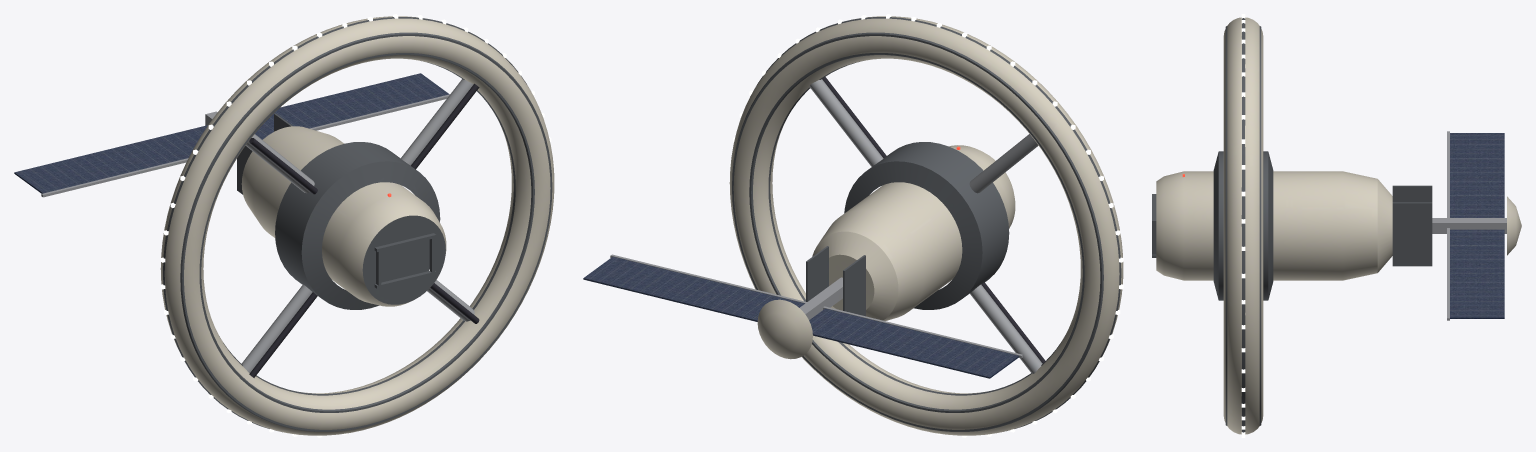
The model's file is game-hearth.glb.
The picture shows the model from 3 angles, left to right: view 1: azimuth 30°, elevation 25°; view 2: azimuth 150°, elevation 25°; view 3: azimuth 270°, elevation 25°; orthographic projection. The views are drawn at different scales.
Parts seen in each view (by area): view 1: hearth; view 2: hearth; view 3: hearth.
Part boxes in pixels (x1,y1,x2,y2): hearth: [14, 14, 554, 437]; hearth: [583, 14, 1123, 437]; hearth: [1152, 14, 1521, 437].
Size of the model in its own units: 890 by 849 by 744.
Materials: 4 (1 with a texture image).
